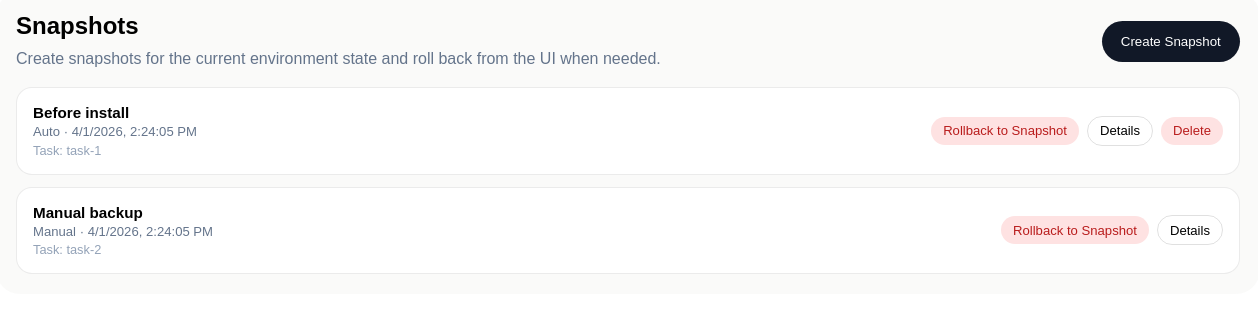
Test: SnapshotPanel › toggles snapshot details on Details button click
Click the button "Details" in the row of "Before install" at (1120, 131), box x1=1087 y1=116 x2=1153 y2=146
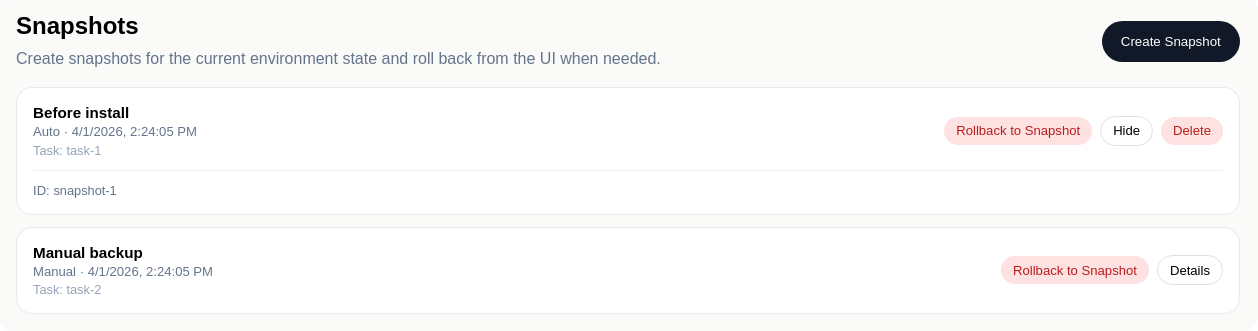
Expected: the text "ID: snapshot-1" is shown, x1=33 y1=183 x2=117 y2=198
Click the button "Hide" at (1127, 131), box x1=1100 y1=116 x2=1153 y2=146
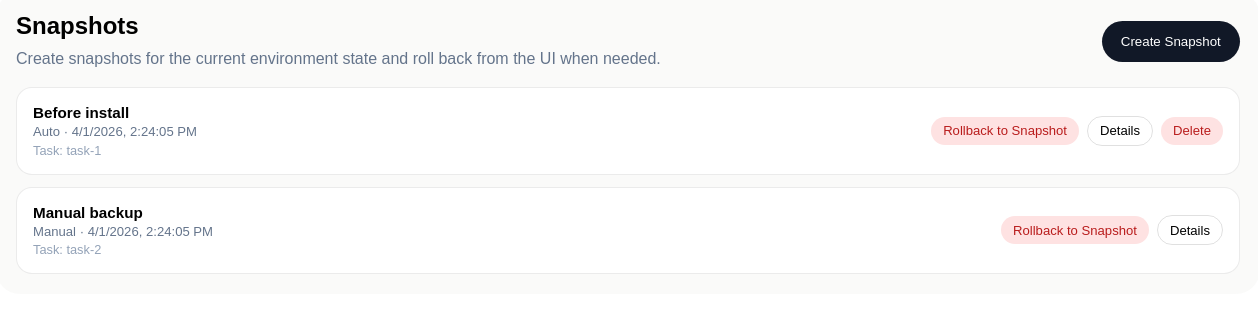
Expected: the text "ID:" is gone
